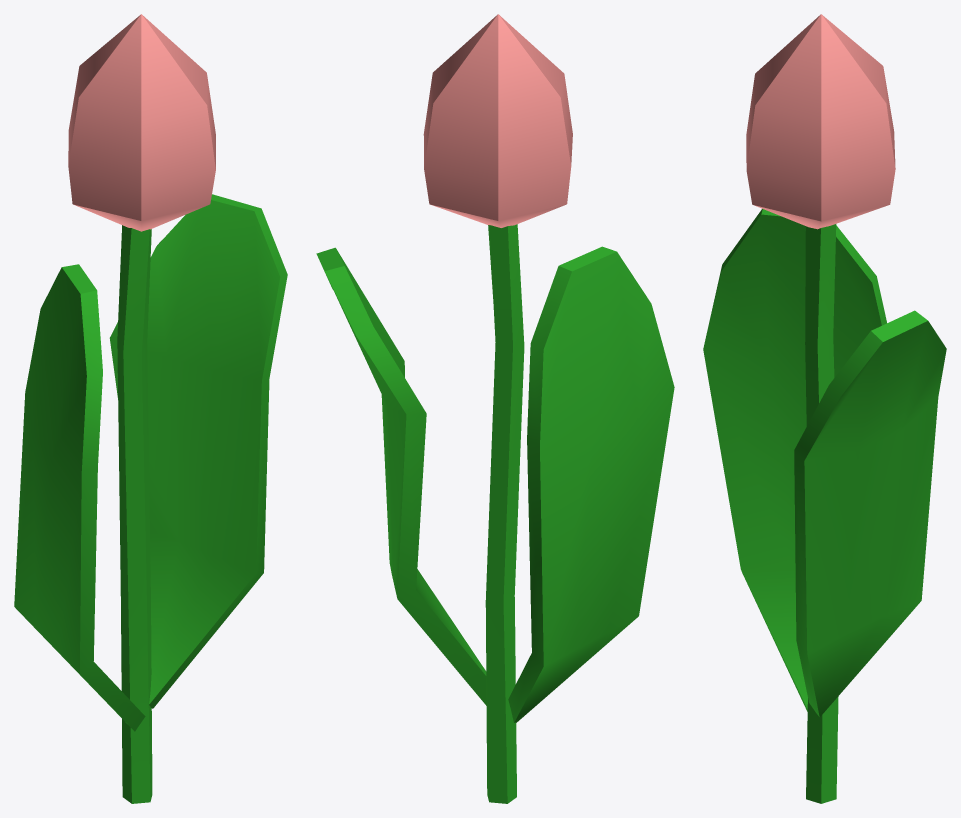
Rendered from tulip.obj.
3 renders of one model, left to right at view 1: azimuth 30°, elevation 25°; view 2: azimuth 150°, elevation 25°; view 3: azimuth 270°, elevation 25°, orthographic.
Parts seen in each view (by area): view 1: tulip pPlane8, tulip pPlane7, tulip pCone1, pasted__pCylinder1 tulip; view 2: tulip pPlane7, tulip pCone1, pasted__pCylinder1 tulip, tulip pPlane8; view 3: tulip pPlane8, tulip pPlane7, tulip pCone1, pasted__pCylinder1 tulip.
Boxes of the visible parts, x1=… form: tulip pPlane8: x1=109, y1=194, x2=287, y2=708; tulip pPlane7: x1=14, y1=264, x2=145, y2=731; tulip pCone1: x1=68, y1=14, x2=215, y2=231; pasted__pCylinder1 tulip: x1=117, y1=225, x2=152, y2=803; tulip pPlane7: x1=508, y1=246, x2=674, y2=722; tulip pCone1: x1=423, y1=14, x2=572, y2=227; pasted__pCylinder1 tulip: x1=485, y1=224, x2=524, y2=803; tulip pPlane8: x1=316, y1=247, x2=486, y2=705; tulip pPlane8: x1=794, y1=310, x2=946, y2=717; tulip pPlane7: x1=703, y1=209, x2=886, y2=711; tulip pCone1: x1=746, y1=14, x2=895, y2=229; pasted__pCylinder1 tulip: x1=805, y1=224, x2=838, y2=803.
Bounding box in the file's own units: 0.4926 × 1.34 × 0.3783.
